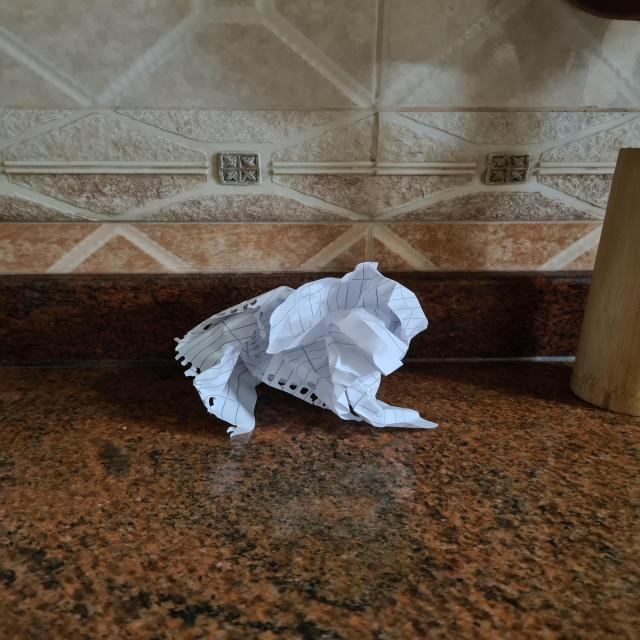paper: (159, 261, 434, 434)
